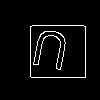U: (27, 28, 72, 80)
